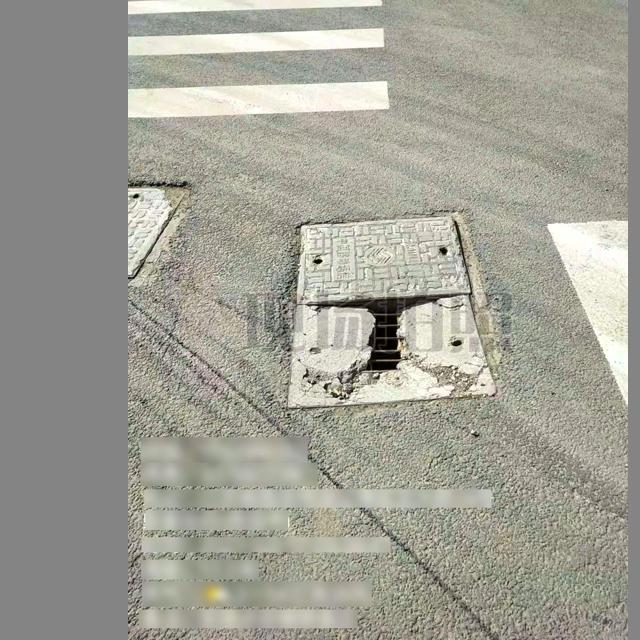broke: (285, 216, 500, 409)
